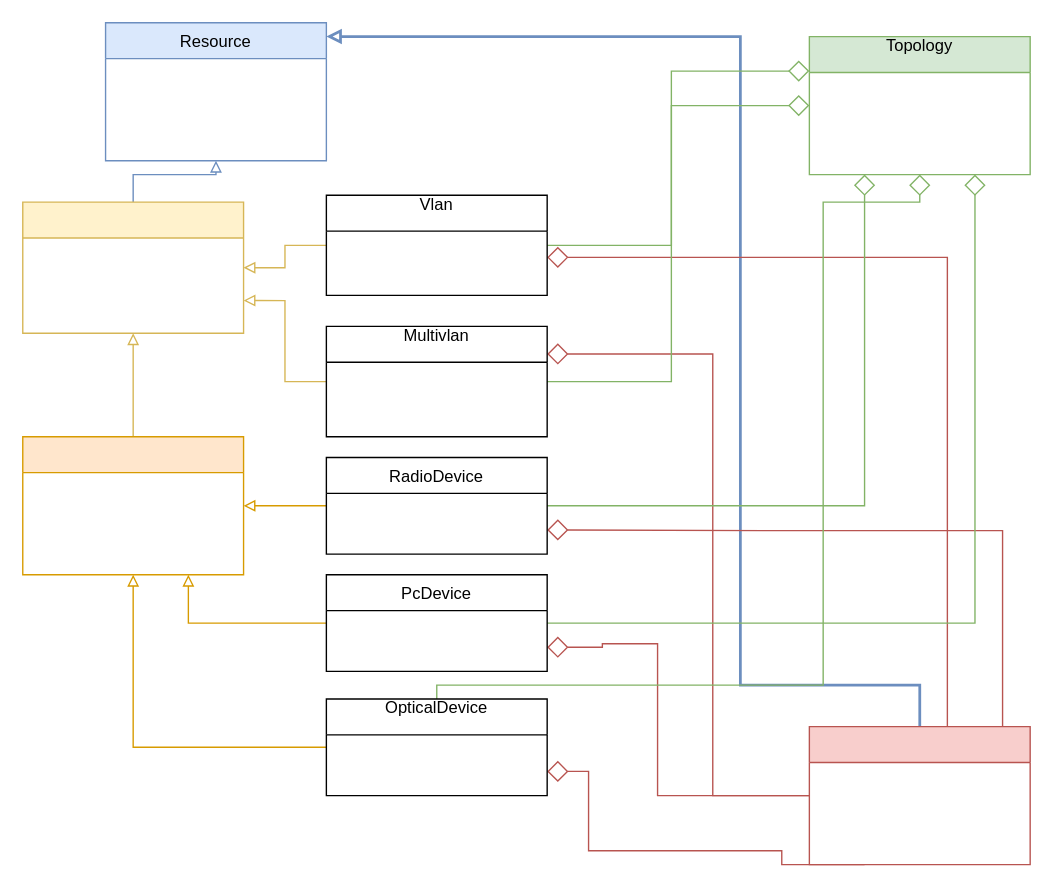
Some shapes in this 1053 by 887 pixel diagram are drawn without their labels. Here are the shapes that lost their labels. From the top down, the centre of each, then its label:
At point (132, 267): "ResourceWithPorts".
At point (132, 505): "Device".
At point (919, 795): "Port".
